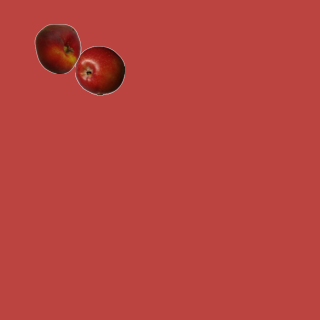Apple Braeburn: (74, 45, 124, 95)
Nectarine Flat: (32, 23, 82, 73)
